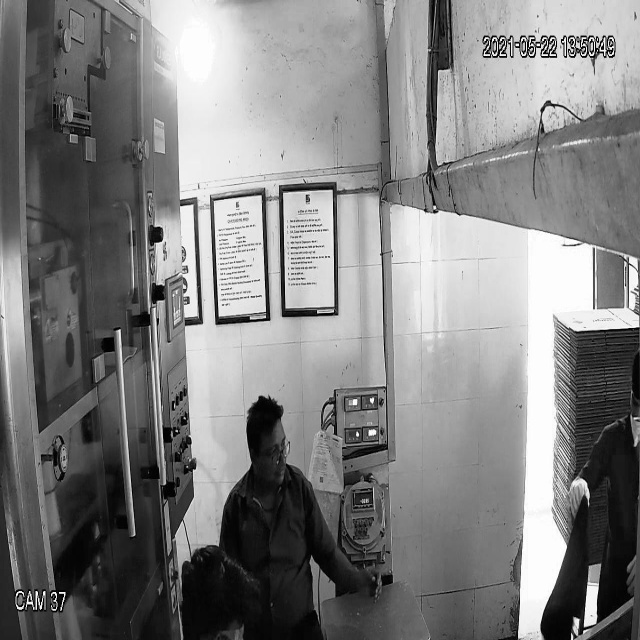Gafas: (244, 436, 293, 468)
